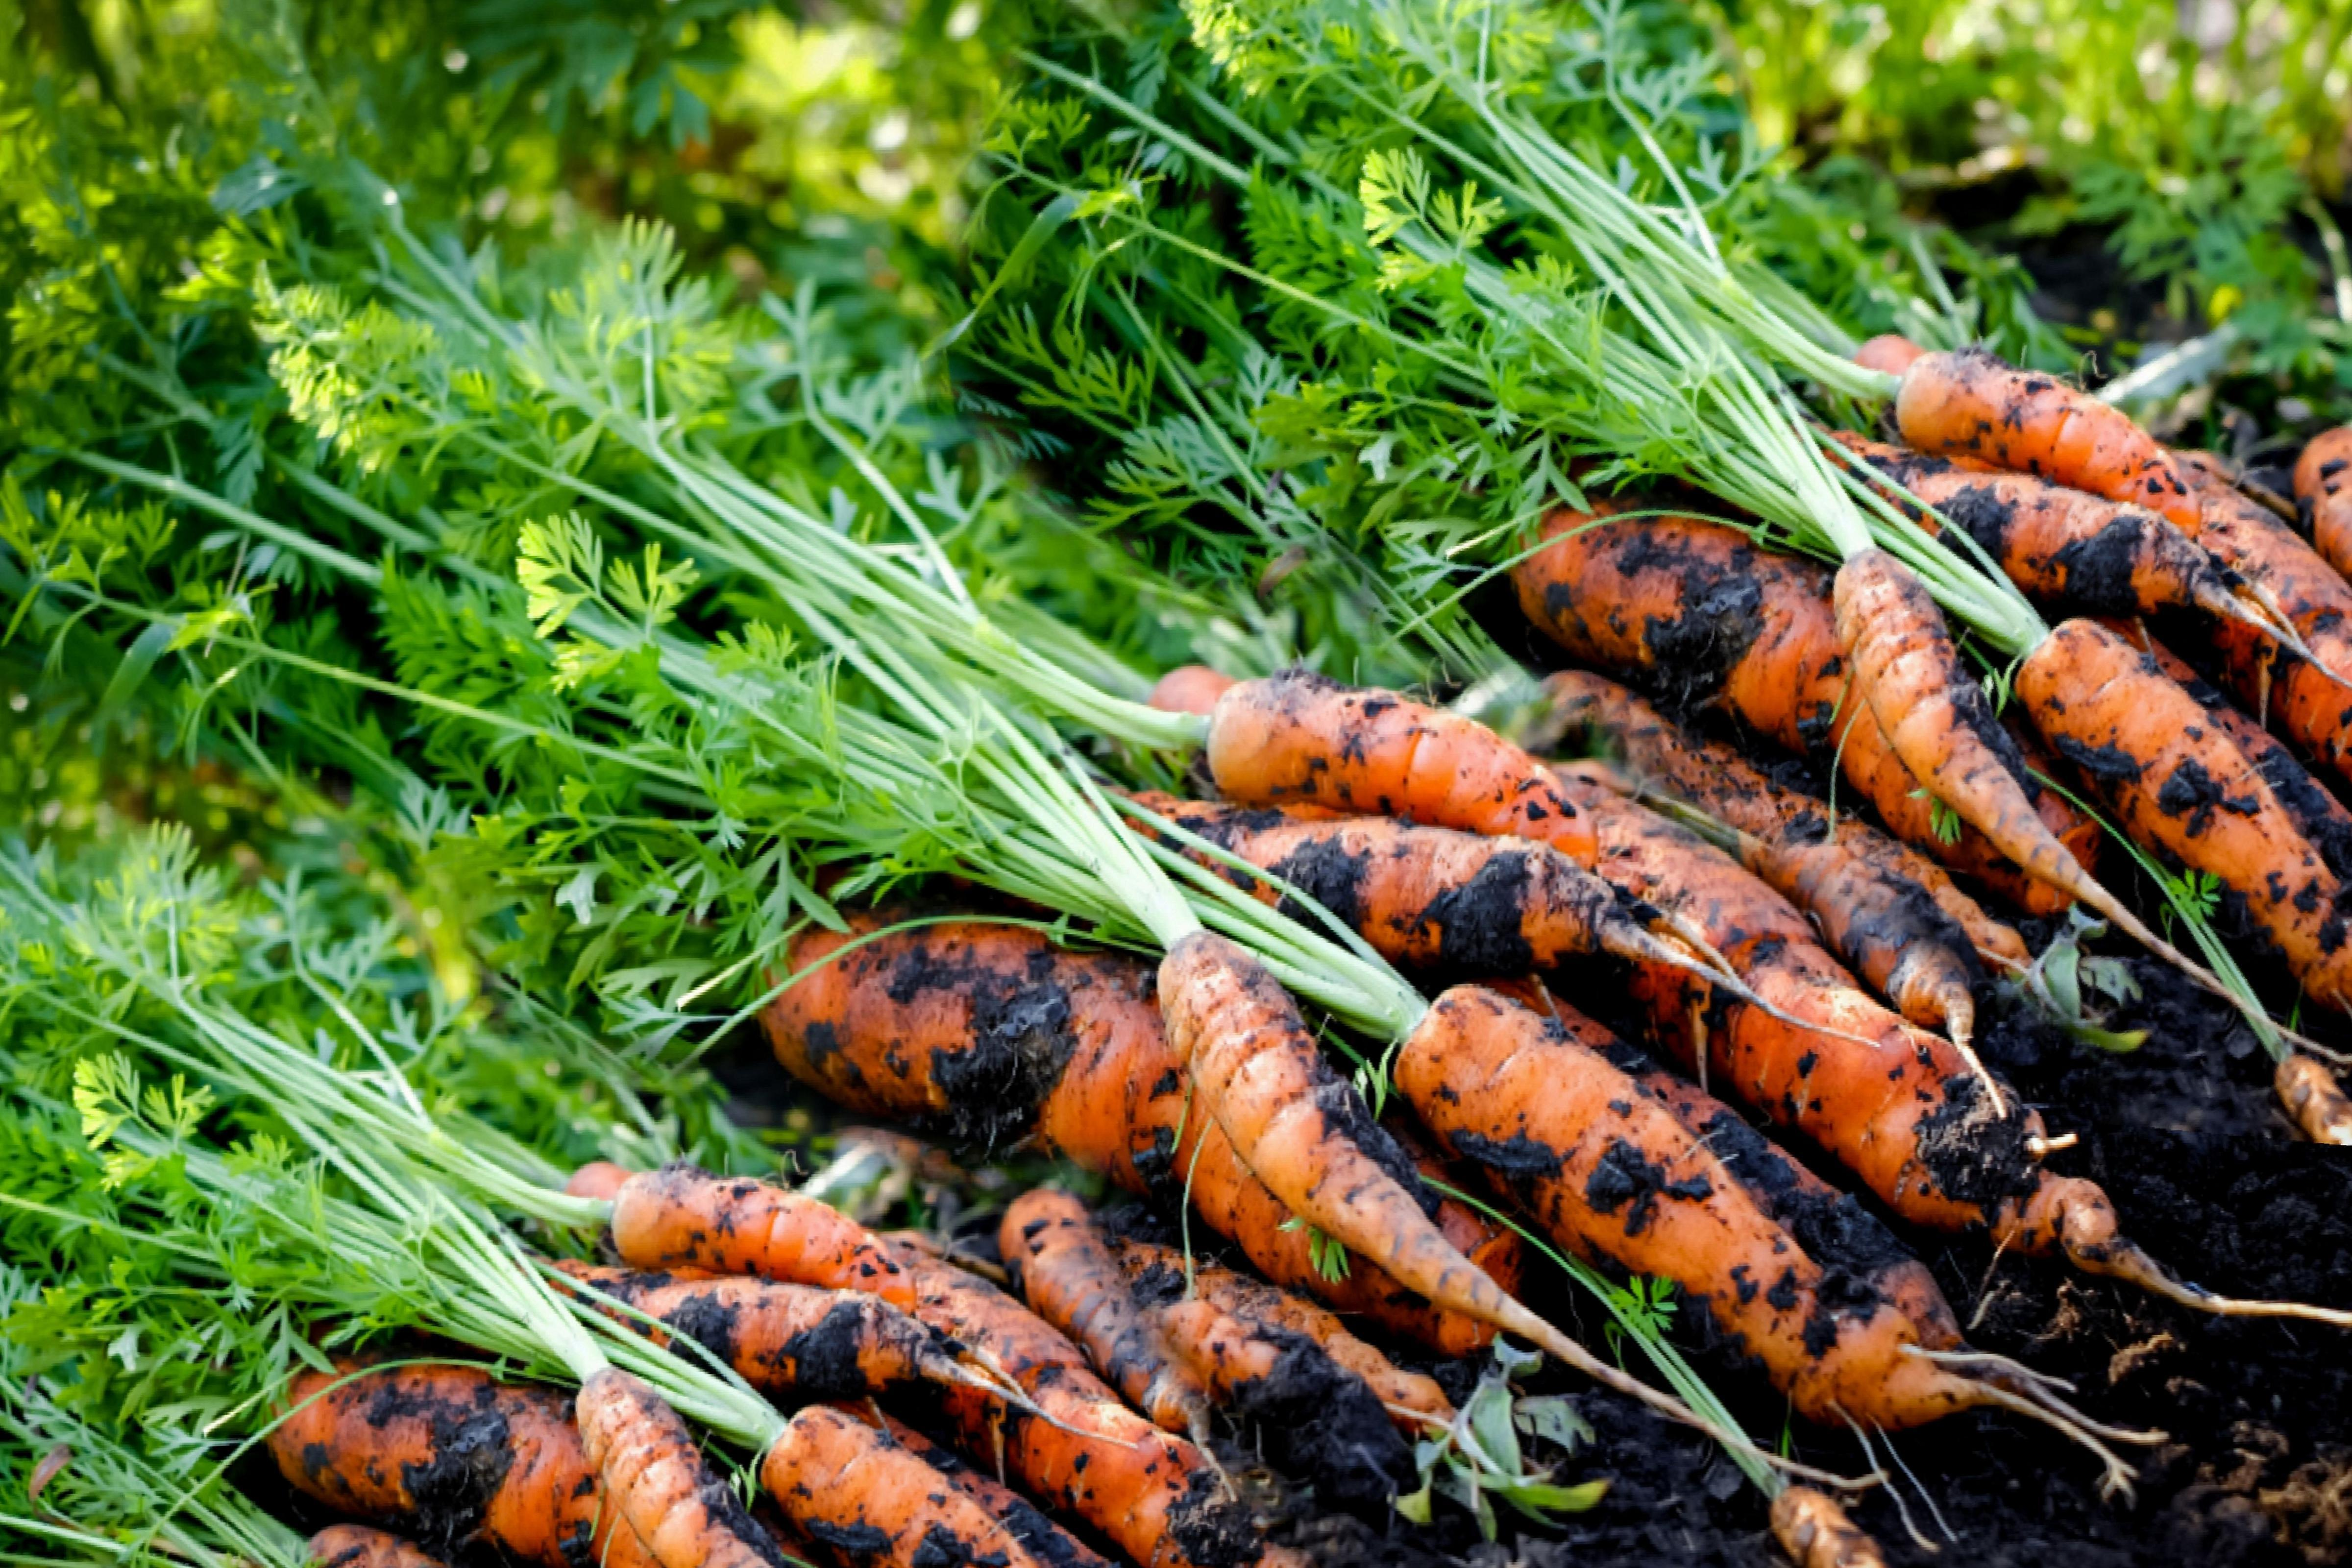carrot: (572, 549, 2322, 1568), (1475, 348, 2352, 1568), (222, 1332, 2352, 1568)
